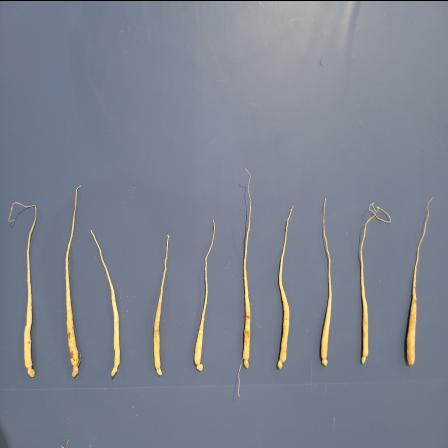Ginseng: (357, 197, 393, 365), (7, 198, 38, 380), (403, 194, 434, 368), (88, 225, 122, 379), (62, 181, 82, 379), (192, 216, 216, 374), (275, 199, 294, 371), (240, 163, 254, 373), (152, 230, 172, 376), (320, 194, 334, 366)
head: (24, 360, 36, 378), (110, 360, 120, 376), (71, 358, 79, 377), (276, 354, 286, 369), (194, 357, 204, 371), (360, 350, 369, 364), (243, 353, 250, 369), (154, 363, 163, 375), (320, 354, 328, 366)
